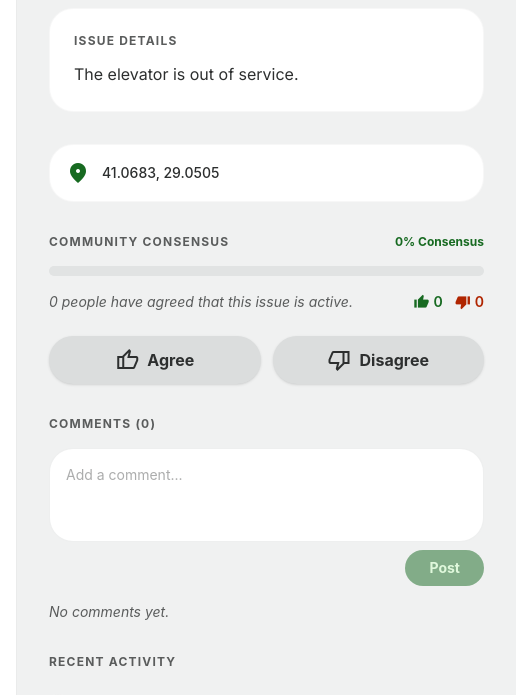
Scenario: ReportPanel › shows an error when voting fails
(page scrolled)
Click the button labelled "Agree": (155, 360) left=49, top=336, right=260, bottom=384
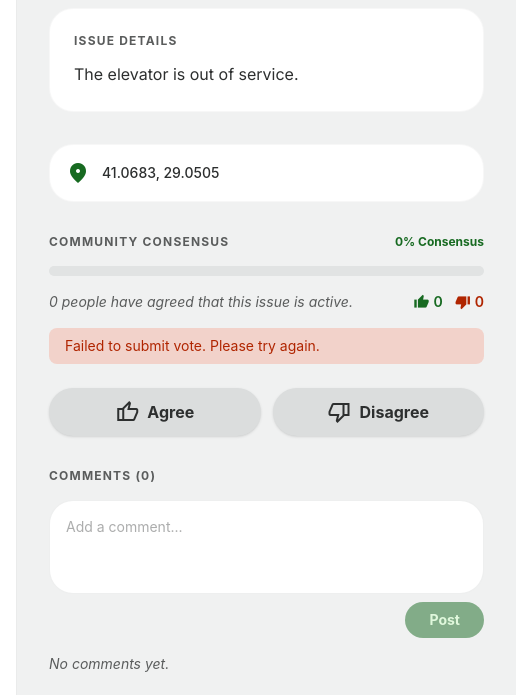
Now the text "Failed to submit vote. Please try again." is shown, box left=49, top=328, right=484, bottom=364
